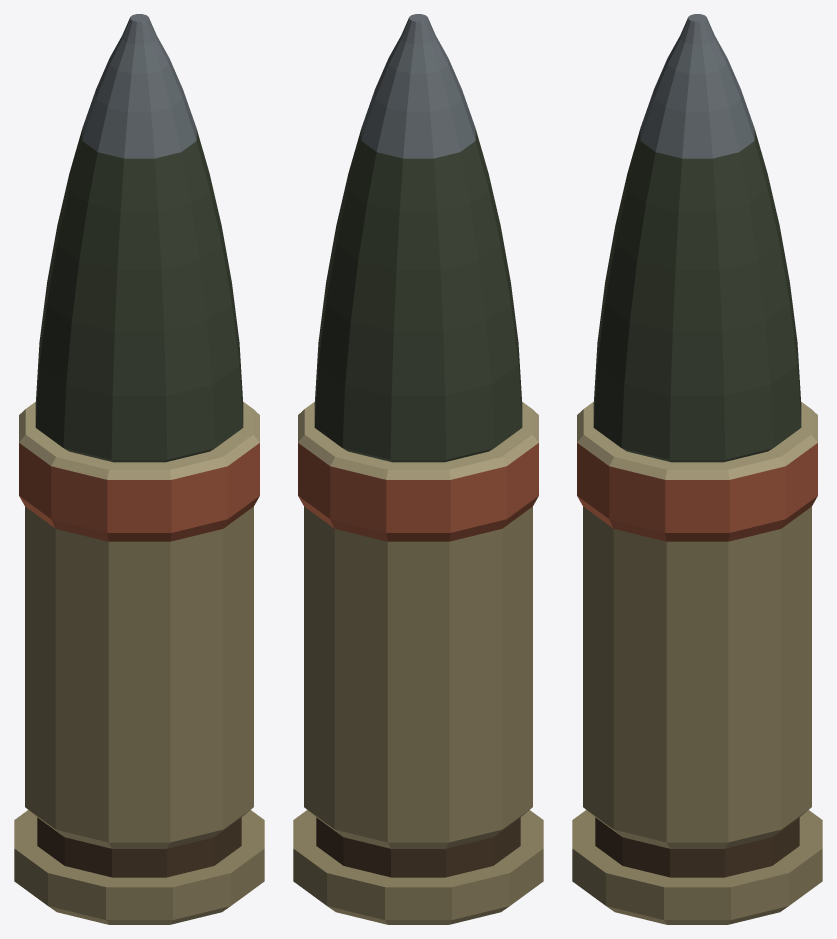
Rendered from artillery-shell-0870bc.glb.
The picture shows the model from 3 angles, left to right: view 1: azimuth 30°, elevation 25°; view 2: azimuth 150°, elevation 25°; view 3: azimuth 270°, elevation 25°; orthographic projection.
Parts seen in each view (by area): view 1: shell-body; view 2: shell-body; view 3: shell-body.
Part boxes in pixels (left/top/right/bottom): shell-body: left=14, top=14, right=264, bottom=924; shell-body: left=293, top=14, right=543, bottom=924; shell-body: left=572, top=14, right=822, bottom=924.
Size of the model in its own units: 0.1584 by 0.6 by 0.1584.
